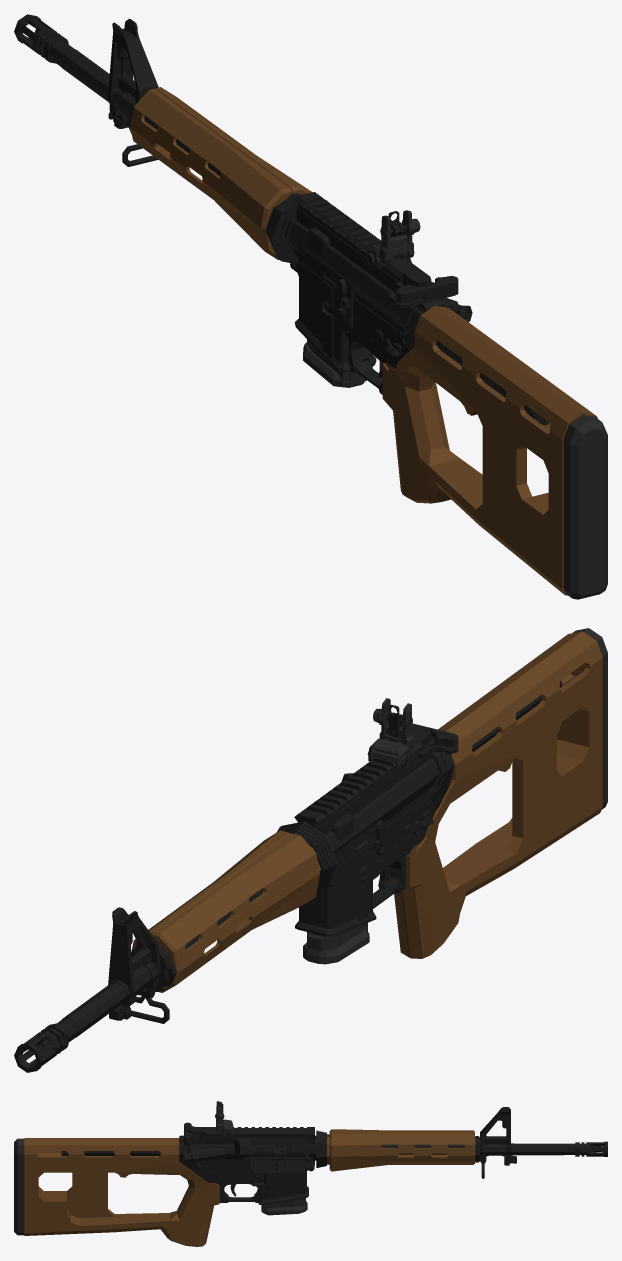
Rendered from adar215.glb.
The picture shows the model from 3 angles, top to bottom: view 1: azimuth 30°, elevation 25°; view 2: azimuth 150°, elevation 25°; view 3: azimuth 270°, elevation 25°; orthographic projection. The views are drawn at different scales.
Visible parts, largest first — view 1: body, charging, mag; view 2: body, mag, charging; view 3: body, mag, charging.
Part boxes in pixels (x1,y1,x2,y2): body: [14, 14, 607, 599]; charging: [389, 276, 458, 307]; mag: [303, 339, 366, 387]; body: [14, 628, 607, 1072]; mag: [303, 923, 369, 964]; charging: [401, 723, 458, 758]; body: [14, 1101, 607, 1246]; mag: [261, 1198, 307, 1215]; charging: [184, 1122, 200, 1145].
Bounding box in the file's own units: 0.0672 × 0.2267 × 0.87.
